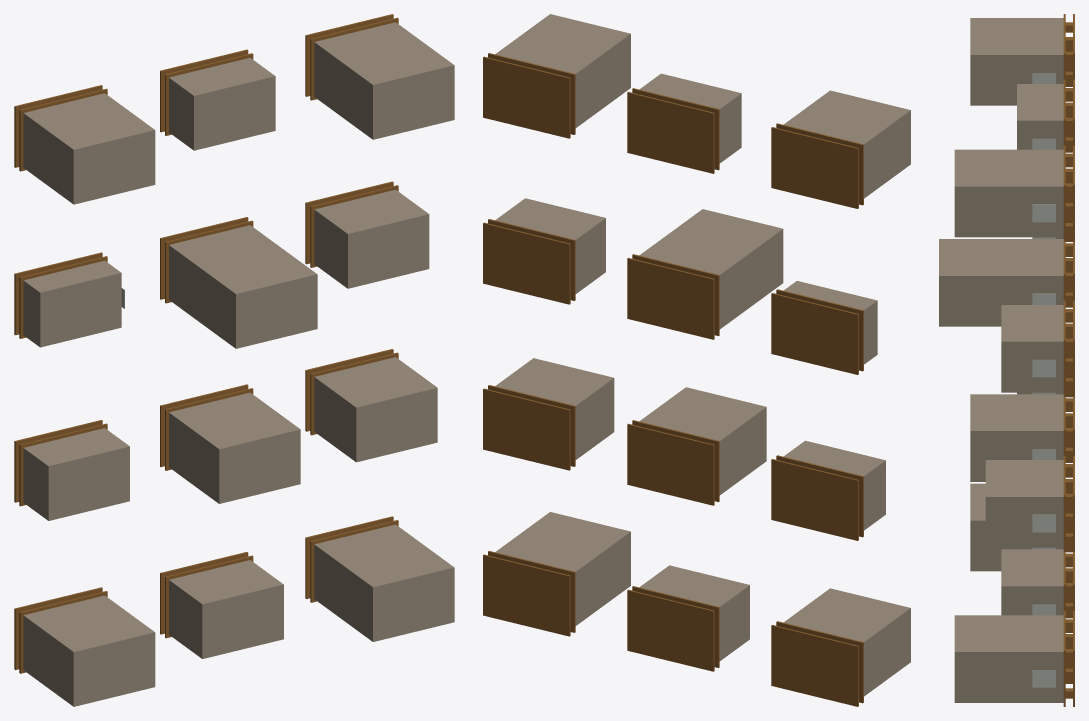
Rendered from EQ_04_PALLETS.obj.
The picture shows the model from 3 angles, left to right: view 1: azimuth 30°, elevation 25°; view 2: azimuth 150°, elevation 25°; view 3: azimuth 270°, elevation 25°; orthographic projection. The views are drawn at different scales.
Parts seen in each view (by area): view 1: PALLET_PAL_08_Load, PALLET_PAL_03_Load, PALLET_PAL_12_Load, PALLET_PAL_10_Load, PALLET_PAL_01_Load, PALLET_PAL_05_Load, PALLET_PAL_06_Load, PALLET_PAL_09_Load, PALLET_PAL_02_Load, PALLET_PAL_11_Load, PALLET_PAL_04_Load, PALLET_PAL_07_Load (+20 smaller); view 2: PALLET_PAL_08_Load, PALLET_PAL_03_Load, PALLET_PAL_12_Load, PALLET_PAL_05_Load, PALLET_PAL_01_Load, PALLET_PAL_10_Load, PALLET_PAL_11_BottomDeck, PALLET_PAL_01_BottomDeck, PALLET_PAL_02_BottomDeck, PALLET_PAL_05_BottomDeck, PALLET_PAL_06_BottomDeck, PALLET_PAL_08_BottomDeck (+24 smaller); view 3: PALLET_PAL_12_Load, PALLET_PAL_08_Load, PALLET_PAL_03_Load, PALLET_PAL_10_Load, PALLET_PAL_06_Load, PALLET_PAL_05_Load, PALLET_PAL_09_Load, PALLET_PAL_02_Load, PALLET_PAL_11_Load, PALLET_PAL_01_Load, PALLET_PAL_06_Label, PALLET_PAL_09_Label (+11 smaller).
Boxes of the visible parts, x1,y1,x2,y2 form: PALLET_PAL_08_Load: (169,225,317,348); PALLET_PAL_03_Load: (314,524,454,641); PALLET_PAL_12_Load: (314,22,454,139); PALLET_PAL_10_Load: (23,93,155,204); PALLET_PAL_01_Load: (23,595,155,706); PALLET_PAL_05_Load: (169,392,300,503); PALLET_PAL_06_Load: (314,357,437,462); PALLET_PAL_09_Load: (314,189,429,288); PALLET_PAL_02_Load: (169,560,283,658); PALLET_PAL_11_Load: (169,57,275,150); PALLET_PAL_04_Load: (23,428,129,520); PALLET_PAL_07_Load: (23,260,121,347); PALLET_PAL_08_Load: (639,209,783,329); PALLET_PAL_03_Load: (495,512,630,625); PALLET_PAL_12_Load: (495,14,630,127); PALLET_PAL_05_Load: (639,387,766,495); PALLET_PAL_01_Load: (783,588,910,696); PALLET_PAL_10_Load: (783,90,910,198); PALLET_PAL_11_BottomDeck: (627,91,714,173); PALLET_PAL_01_BottomDeck: (771,625,858,706); PALLET_PAL_02_BottomDeck: (627,589,714,671); PALLET_PAL_05_BottomDeck: (627,423,714,505); PALLET_PAL_06_BottomDeck: (483,388,570,470); PALLET_PAL_08_BottomDeck: (627,257,714,339); PALLET_PAL_12_Load: (954,149,1063,237); PALLET_PAL_08_Load: (939,239,1063,326); PALLET_PAL_03_Load: (954,615,1063,702); PALLET_PAL_10_Load: (970,18,1063,105); PALLET_PAL_06_Load: (985,460,1063,547); PALLET_PAL_05_Load: (970,394,1063,481); PALLET_PAL_09_Load: (1001,305,1063,392); PALLET_PAL_02_Load: (1001,549,1063,615); PALLET_PAL_11_Load: (1017,84,1063,149); PALLET_PAL_01_Load: (970,483,1063,571); PALLET_PAL_06_Label: (1032,514,1055,532); PALLET_PAL_09_Label: (1032,359,1055,377).
Size of the model in its own units: 5.2 by 7.4 by 1.75.
